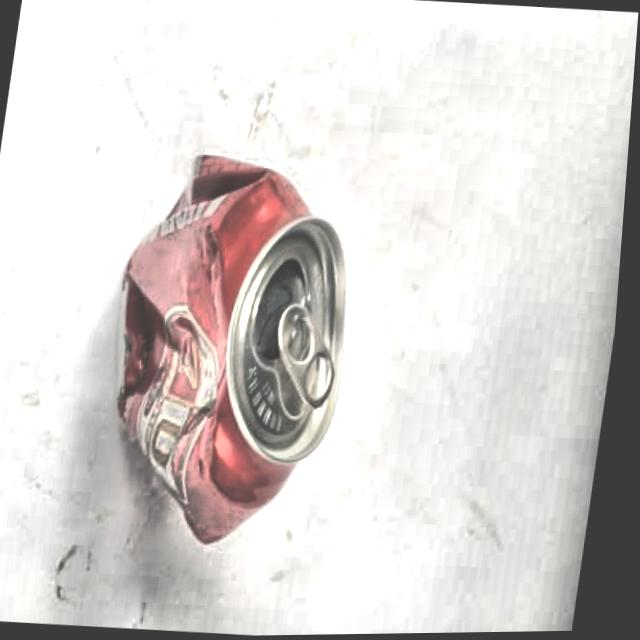Cans: (89, 158, 377, 551)
